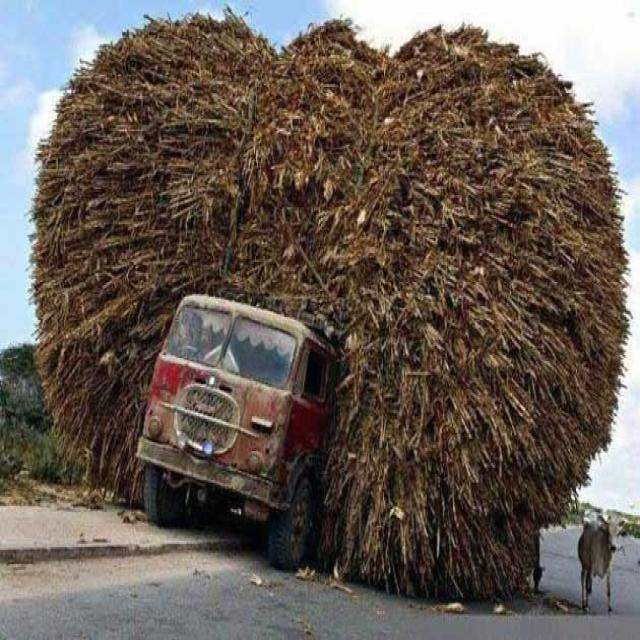goods: (33, 15, 629, 597)
truck: (136, 296, 339, 569)
